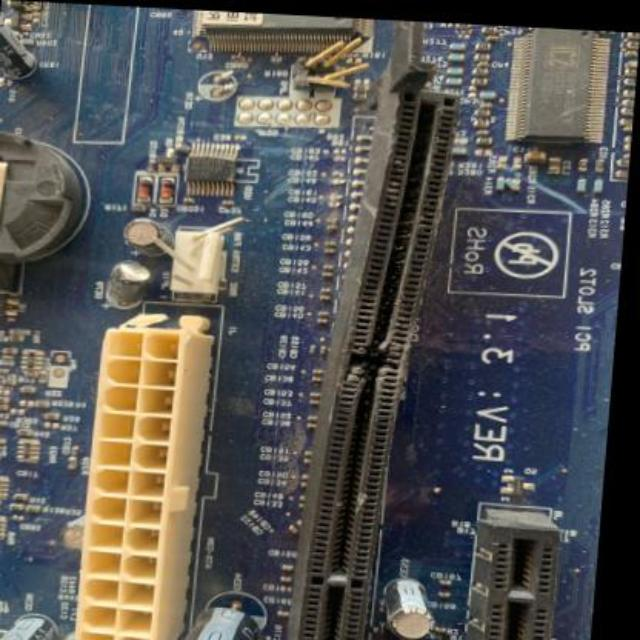PCB: (1, 2, 626, 640)
